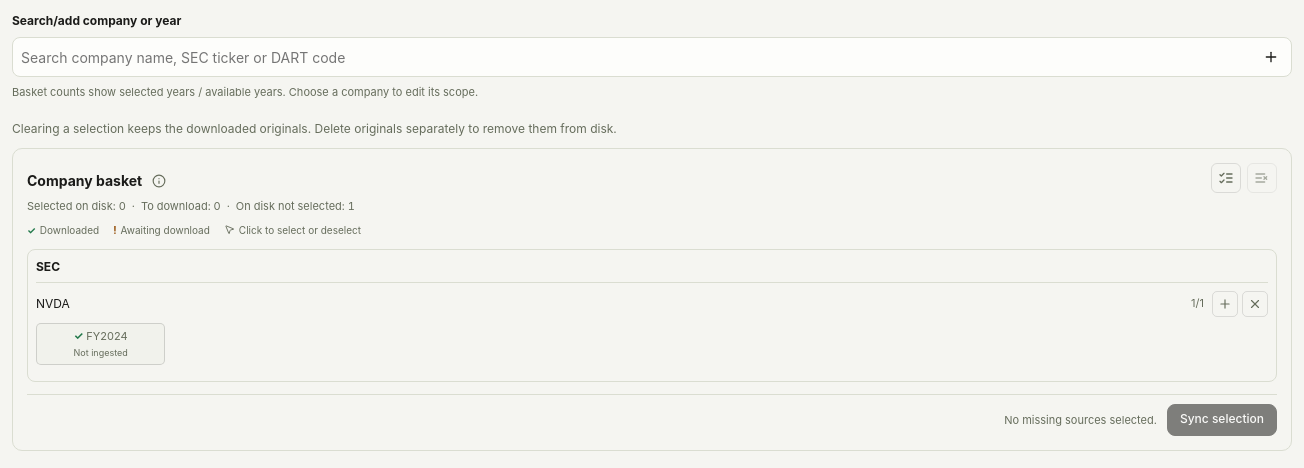
Test: company and year source matrix › separates not_ingested ingestion from downloaded-source availability
Check: the text "Not ingested" is shown, box x1=74 y1=347 x2=128 y2=358
Step 1. Click the button with aria-label "NVDA FY2024 · On disk" → (101, 344), box x1=36 y1=323 x2=165 y2=365
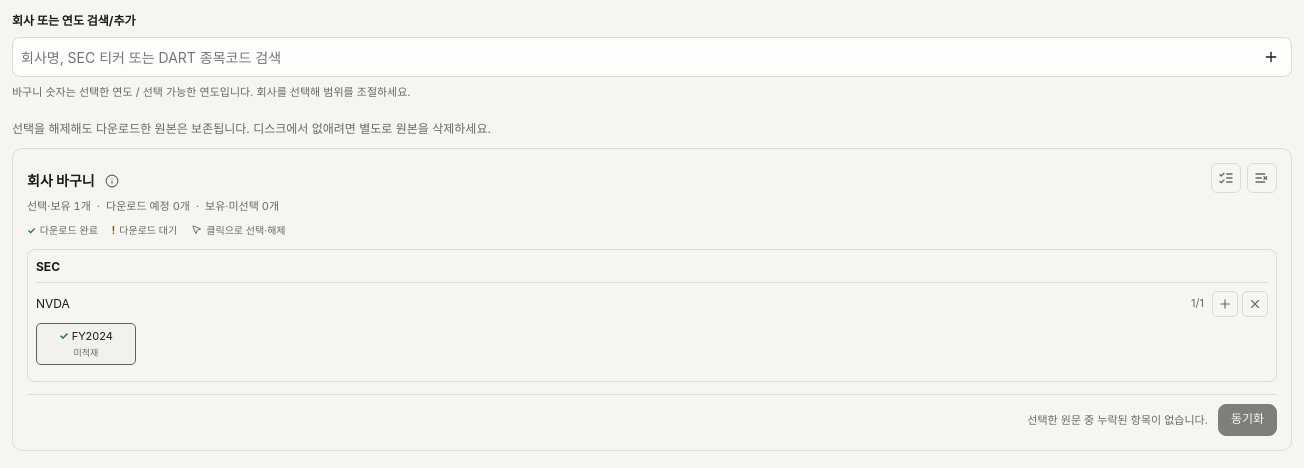
Check: the text "미적재" is shown, box x1=74 y1=347 x2=98 y2=358
